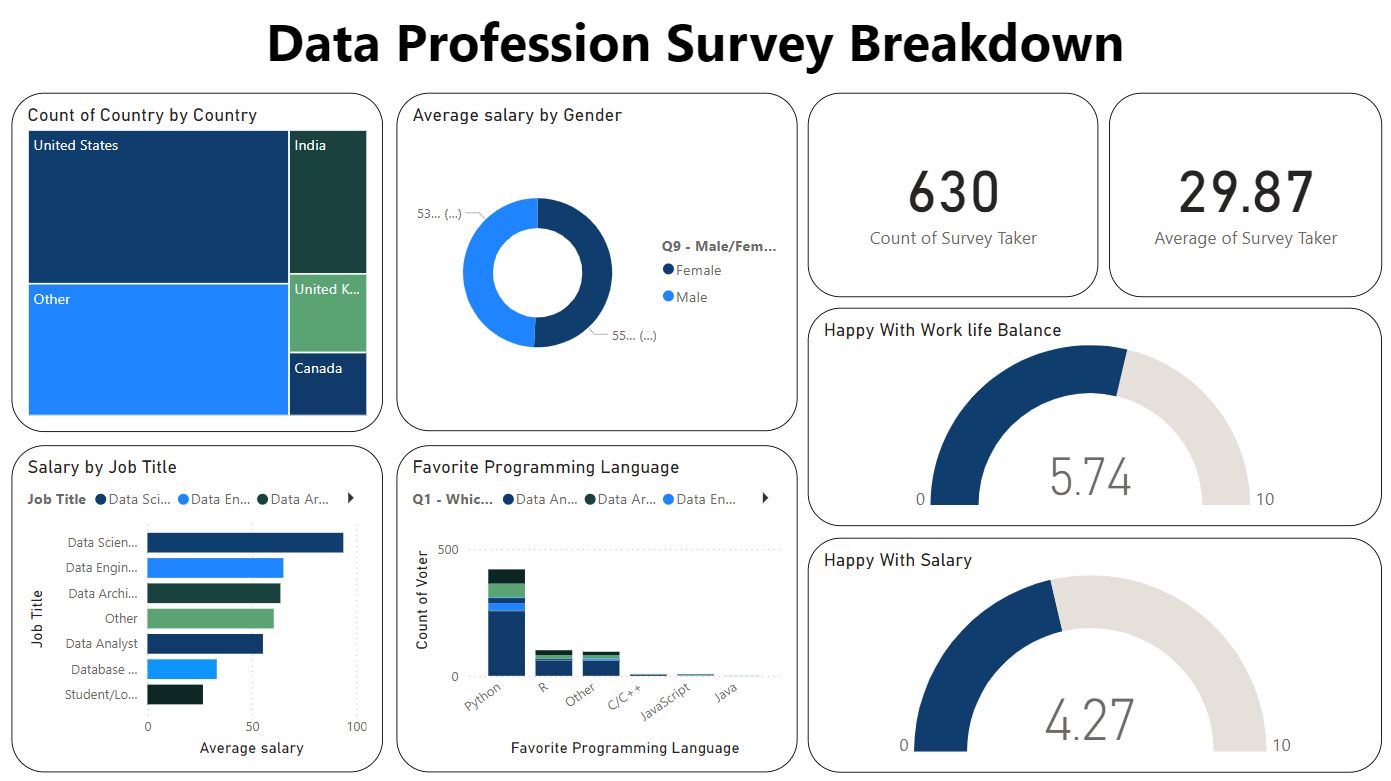

The dashboard page shown, as its layout file describes it:
{"tool":"powerbi","page":{"name":"Page 1","canvas":[1280,720],"ordinal":0},"visuals":[{"type":"textbox","box":[0,0,1280.3,78.2],"z":0},{"type":"card","fields":{"Values":["CountNonNull(Data Professional Survey (2).Unique ID)"]},"box":[744.2,86,267.4,188.4],"z":1000},{"type":"card","fields":{"Values":["Avg(Data Professional Survey (2).Q10 - Current Age)"]},"box":[1020.9,86,251.2,188.4],"z":2000},{"type":"barChart","title":"Salary by Job Title","fields":{"Category":["Data Professional Survey (2).Q1 - Which Title Best Fits your Current Role?.1"],"Y":["Avg(Data Professional Survey (2).Average salary)"],"Series":["Data Professional Survey (2).Q1 - Which Title Best Fits your Current Role?.1"]},"box":[11.6,410.5,341.9,301.2],"z":3000},{"type":"columnChart","title":"Favorite Programming Language","fields":{"Category":["Data Professional Survey (2).Q5 - Favorite Programming Language.1"],"Series":["Data Professional Survey (2).Q1 - Which Title Best Fits your Current Role?.1"],"Y":["CountNonNull(Data Professional Survey (2).Unique ID)"]},"box":[365.1,410.5,368.6,301.2],"z":4000},{"type":"treemap","fields":{"Values":["CountNonNull(Data Professional Survey (2).Country)"],"Group":["Data Professional Survey (2).Country"]},"box":[11.6,86,341.9,311.6],"z":5000},{"type":"gauge","title":"Happy With Work life Balance","fields":{"Y":["Avg(Data Professional Survey (2).Q6 - How Happy are you in your Current Position with the following? (Work/Life Balance)"],"MinValue":["Min(Data Professional Survey (2).Q6 - How Happy are you in your Current Position with the following? (Work/Life Balance)"],"MaxValue":["Max(Data Professional Survey (2).Q6 - How Happy are you in your Current Position with the following? (Work/Life Balance)"]},"box":[744.2,283.7,527.9,201.2],"z":6000},{"type":"gauge","title":"Happy With Salary","fields":{"Y":["Avg(Data Professional Survey (2).Q6 - How Happy are you in your Current Position with the following? (Salary))"],"MinValue":["Min(Data Professional Survey (2).Q6 - How Happy are you in your Current Position with the following? (Salary))"],"MaxValue":["Max(Data Professional Survey (2).Q6 - How Happy are you in your Current Position with the following? (Salary))"]},"box":[744.2,495.4,527.9,216.3],"z":7000},{"type":"donutChart","title":"Average salary by Gender","fields":{"Category":["Data Professional Survey (2).Q9 - Male/Female?"],"Y":["Avg(Data Professional Survey (2).Average salary)"]},"box":[365,86.4,369.1,311.5],"z":8000}]}

Visuals, with their boxes in screenshot pixels (x1, y1, x2, y2), scaled from the page's 1280x720 canvas onto the 1391x781 screenshot:
textbox: (0, 0, 1390, 85)
card - CountNonNull(Data Professional Survey (2).Unique ID): (809, 93, 1099, 298)
card - Avg(Data Professional Survey (2).Q10 - Current Age): (1109, 93, 1382, 298)
"Salary by Job Title" barChart: (13, 445, 384, 772)
"Favorite Programming Language" columnChart: (397, 445, 797, 772)
treemap - CountNonNull(Data Professional Survey (2).Country) x Data Professional Survey (2).Country: (13, 93, 384, 431)
"Happy With Work life Balance" gauge: (809, 308, 1382, 526)
"Happy With Salary" gauge: (809, 537, 1382, 772)
"Average salary by Gender" donutChart: (397, 94, 798, 432)
